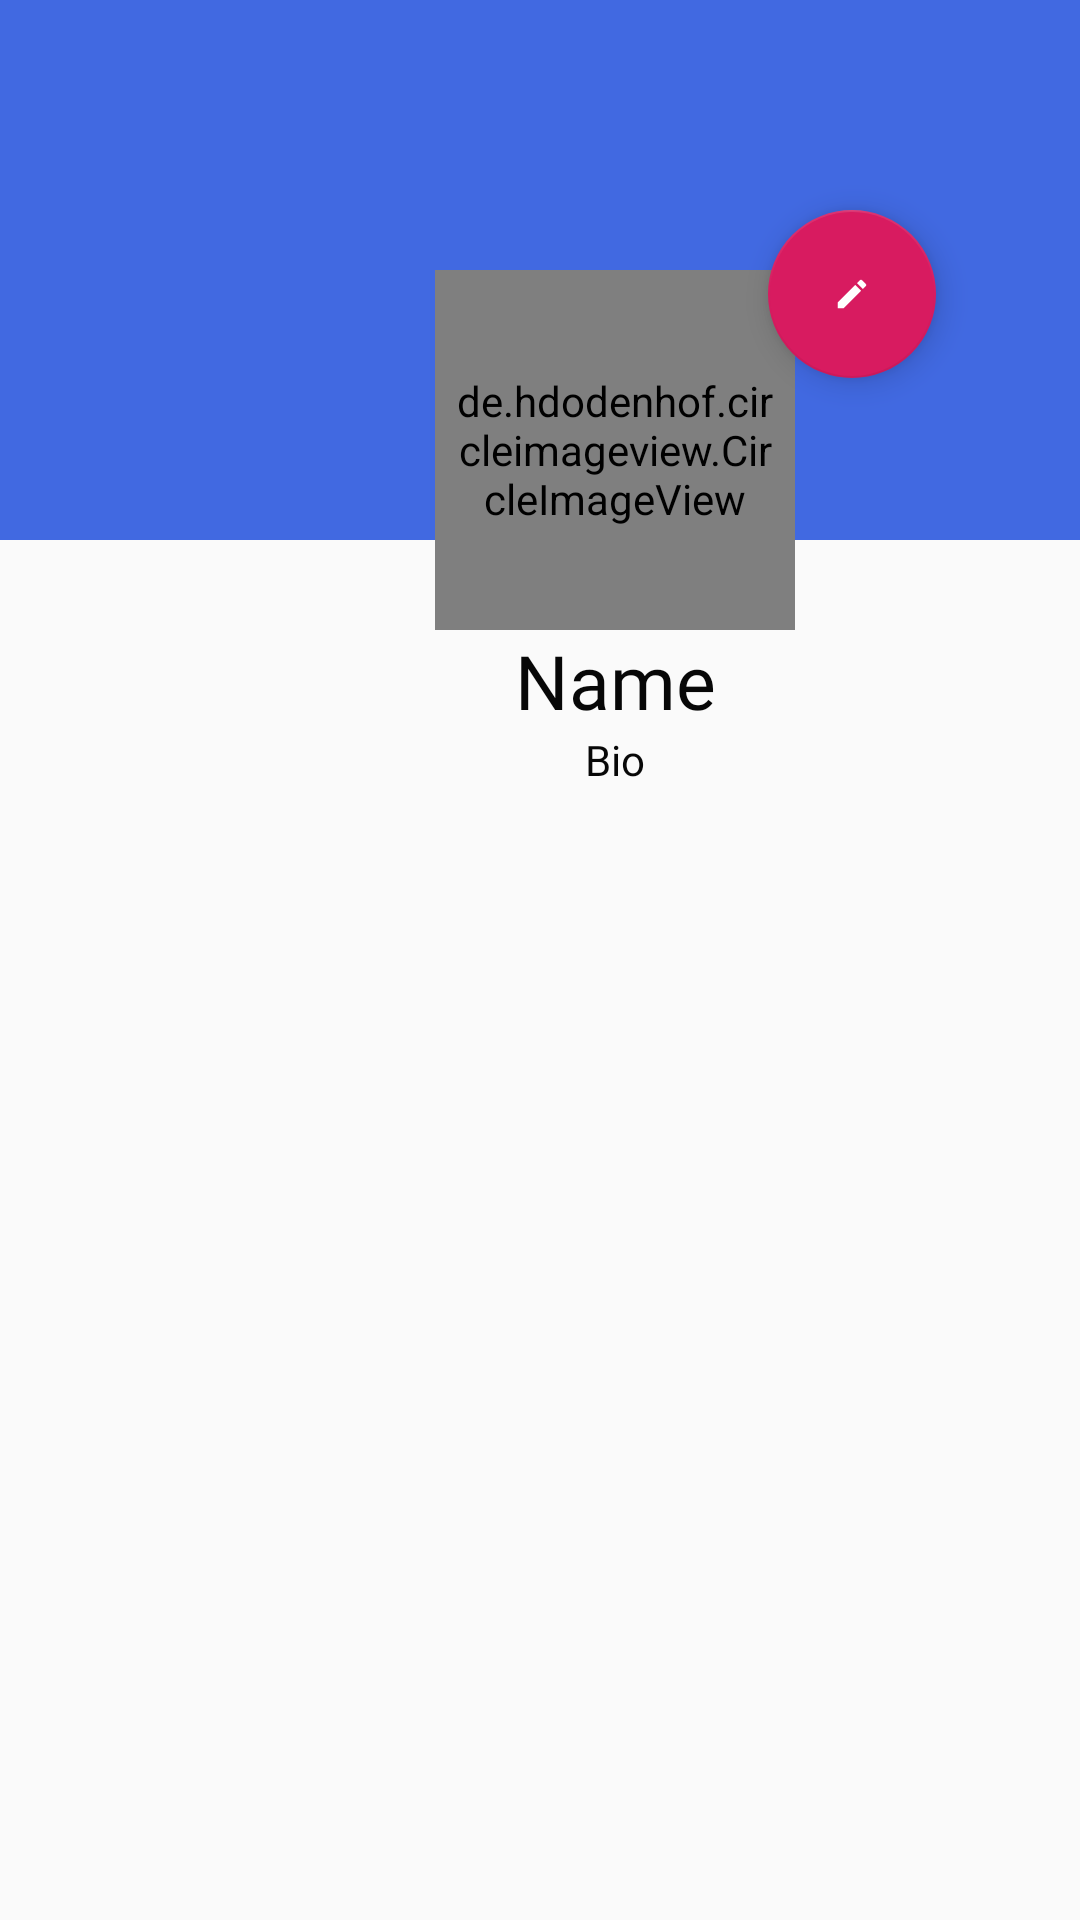

Screen size 1080*1920. Icon name, then its center in pixels as point (x, y):
ed name: point (852, 294)
